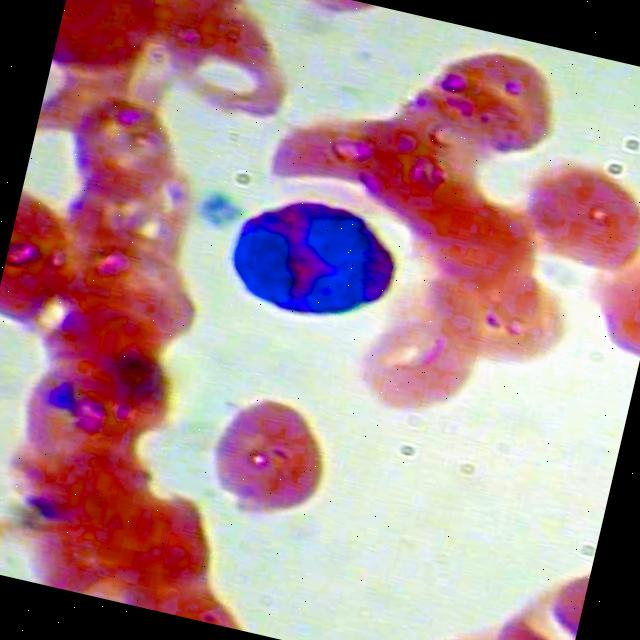RBC: (406, 242, 581, 392), (251, 78, 426, 228), (197, 385, 350, 537), (333, 284, 486, 436), (410, 28, 562, 180), (42, 228, 210, 362), (4, 344, 156, 488), (150, 0, 303, 141), (505, 145, 640, 297), (50, 87, 188, 211), (50, 0, 160, 85), (482, 565, 587, 640)
WBC: (219, 180, 419, 340)
